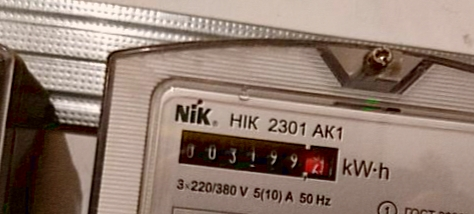0: (183, 139, 196, 158), (206, 140, 217, 159)
1: (248, 142, 257, 161)
3: (227, 144, 236, 163)
6: (310, 160, 320, 176)
9: (288, 150, 298, 168), (268, 146, 277, 164)
screen: (171, 123, 345, 187)
